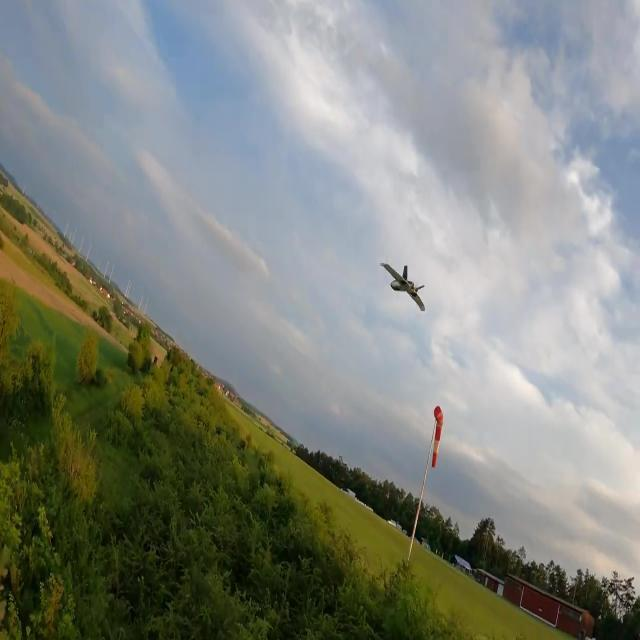iha: (377, 252, 432, 314)
